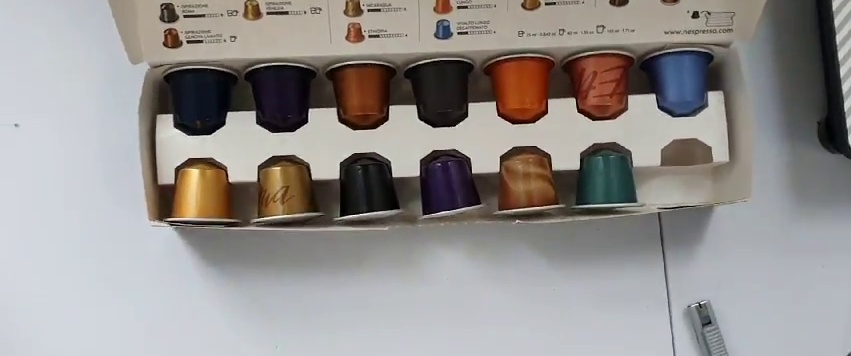capsule_1: (161, 64, 240, 135)
capsule_10: (334, 149, 406, 222)
capsule_11: (412, 151, 486, 218)
capsule_12: (495, 149, 567, 215)
capsule_13: (574, 147, 646, 211)
capsule_2: (244, 61, 317, 132)
capsule_3: (325, 59, 398, 130)
capsule_4: (405, 54, 474, 128)
capsule_5: (484, 50, 558, 126)
capsule_6: (566, 48, 641, 121)
capsule_7: (638, 45, 716, 114)
capsule_8: (159, 157, 242, 228)
capsule_9: (245, 157, 324, 222)
